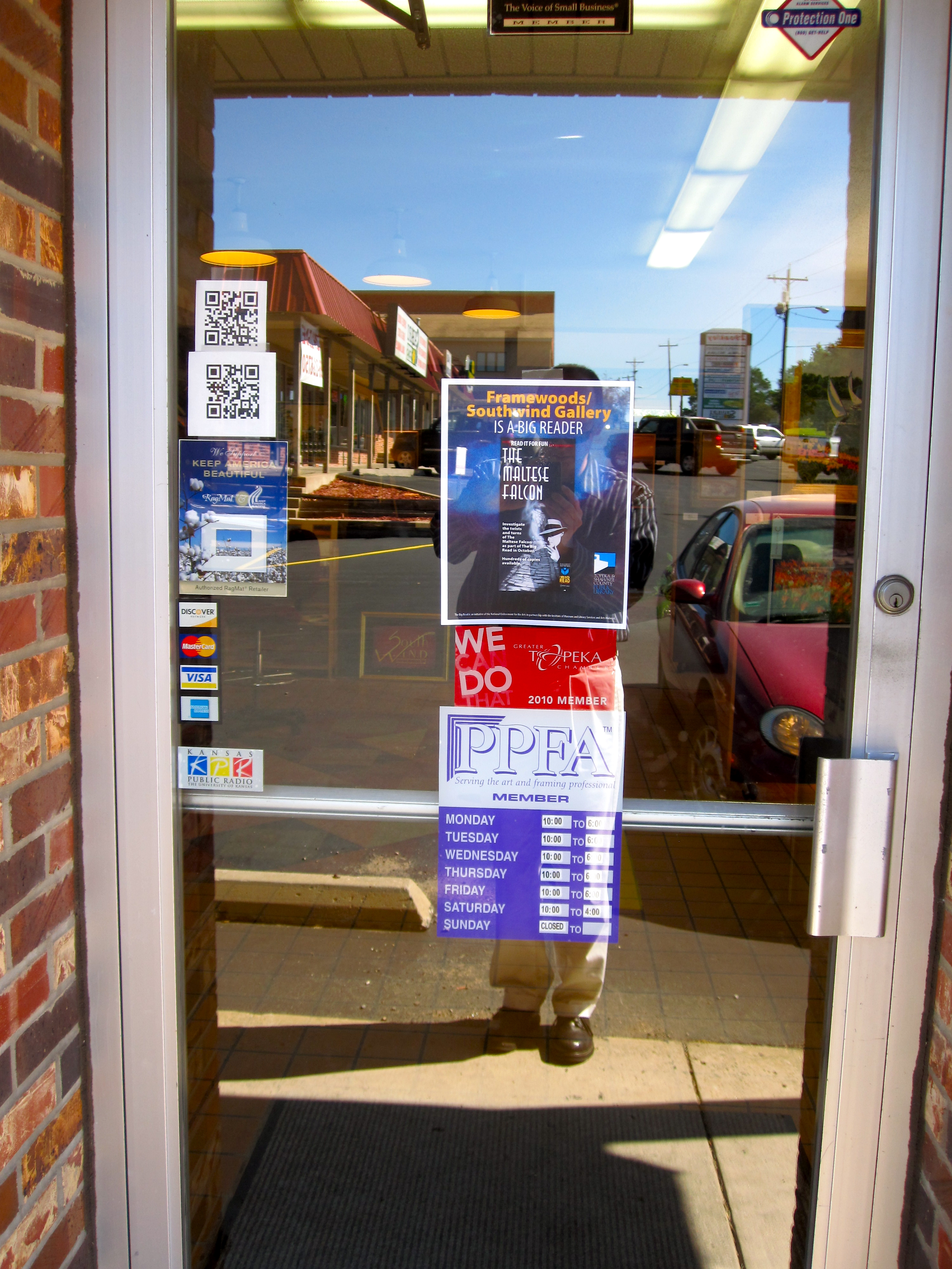QR-CODE: (204, 291, 258, 346), (206, 364, 259, 419)
